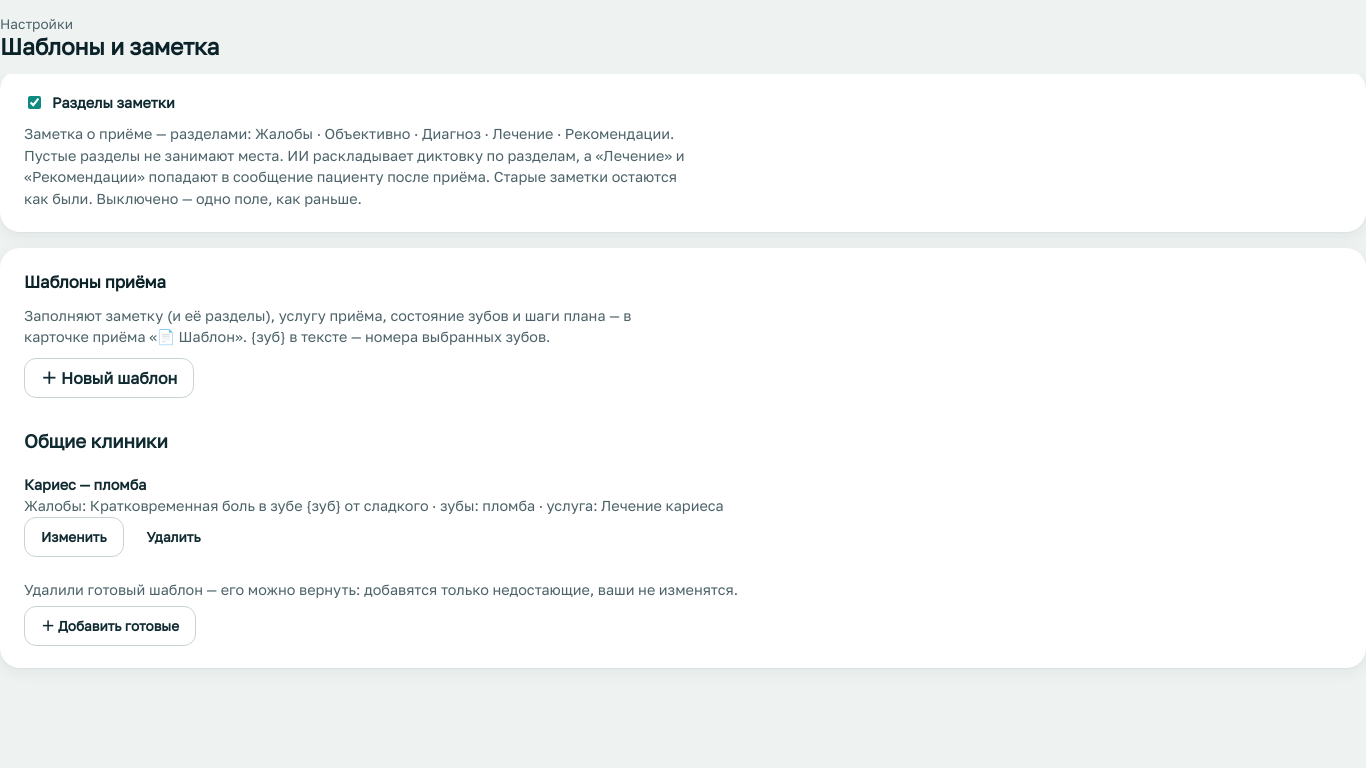
Test: настройки: «＋ Добавить готовые» внизу списка возвращает удалённые, ваши не трогает
Expected: the element "Общие клиники" shows "Кратковременная боль в зубе {зуб} от сладкого", [24, 497, 724, 514]
Expected: the text "Удалили готовый шаблон — его можно вернуть" is shown, [24, 581, 738, 598]
Click the button "＋ Добавить готовые".
click(110, 626)  # box [24, 606, 196, 646]
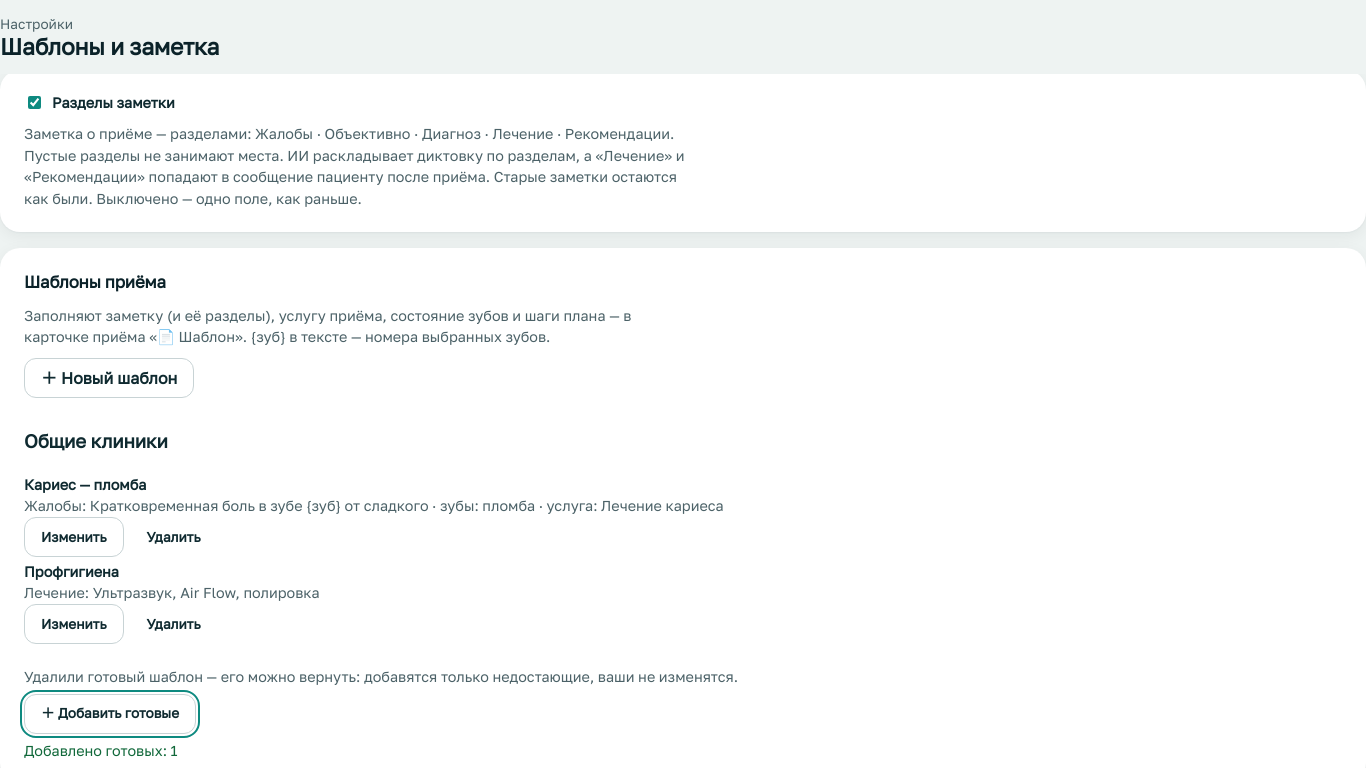
Now the message reads "Добавлено готовых: 1", box [24, 742, 178, 759]
Now the text "Профгигиена" is shown, box [24, 563, 119, 580]
